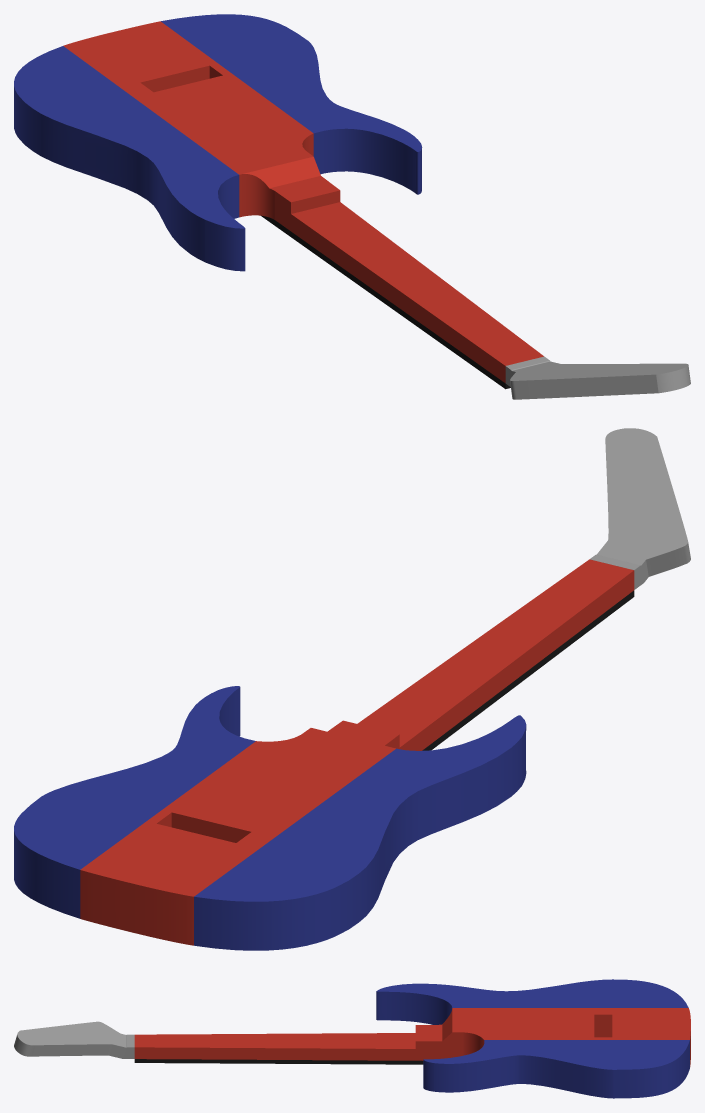
3 views of the same model, one above another, from view 1: azimuth 30°, elevation 25°; view 2: azimuth 150°, elevation 25°; view 3: azimuth 270°, elevation 25° (orthographic). The views are drawn at different scales.
Parts seen in each view (by area): view 1: Body1 (×6); view 2: Body1 (×6); view 3: Body1 (×7).
Boxes of the visible parts, <box> form: Body1 (×6): <box>14,14,690,399</box>; Body1 (×6): <box>14,428,690,950</box>; Body1 (×7): <box>14,979,690,1098</box>.
Bounding box in the file's own units: 298 × 64.13 × 943.
